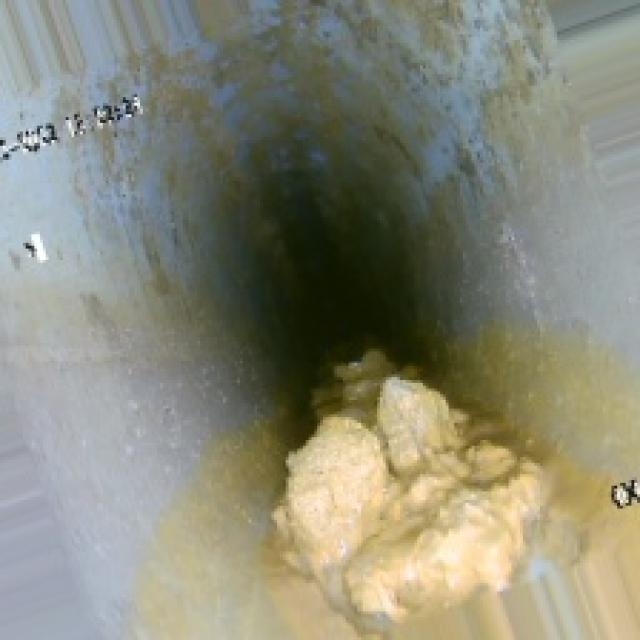sluge accumulation: (260, 348, 560, 623)
